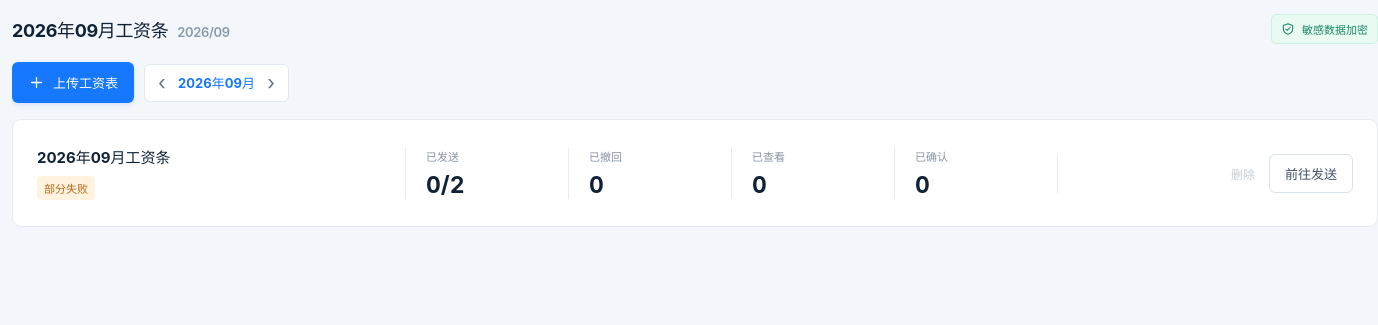
Test: salary management › filters a partially failed batch by each employee's latest delivery status
This screenshot has width=1378, height=325.
Click the button "前往发送" at (1311, 173), box [1269,154,1353,192]
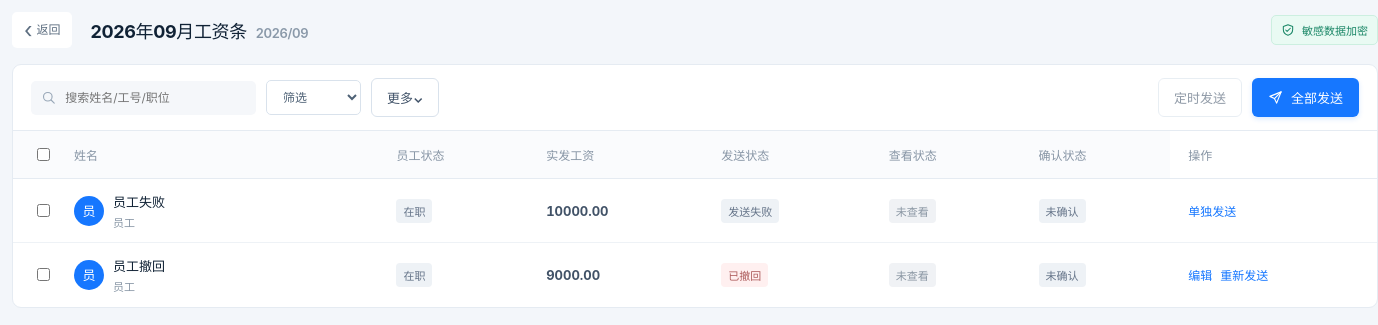
expect the text "员工失败" is shown: met, box [113,192,165,210]
expect the text "员工撤回" is shown: met, box [113,256,165,275]
Select "发送失败" in the dropdown at (314, 98), box [266,80,361,115]
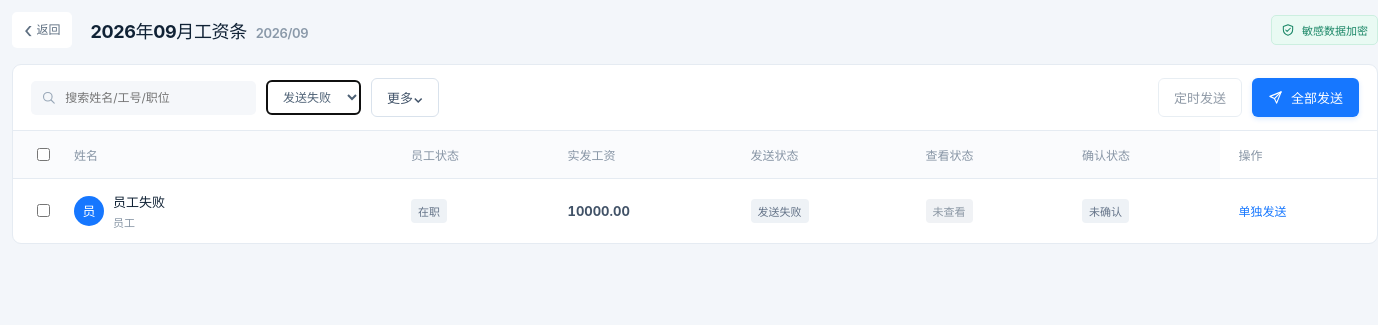
expect the text "员工失败" is shown: met, box [113,192,165,211]
expect the text "员工撤回" is gone: met
